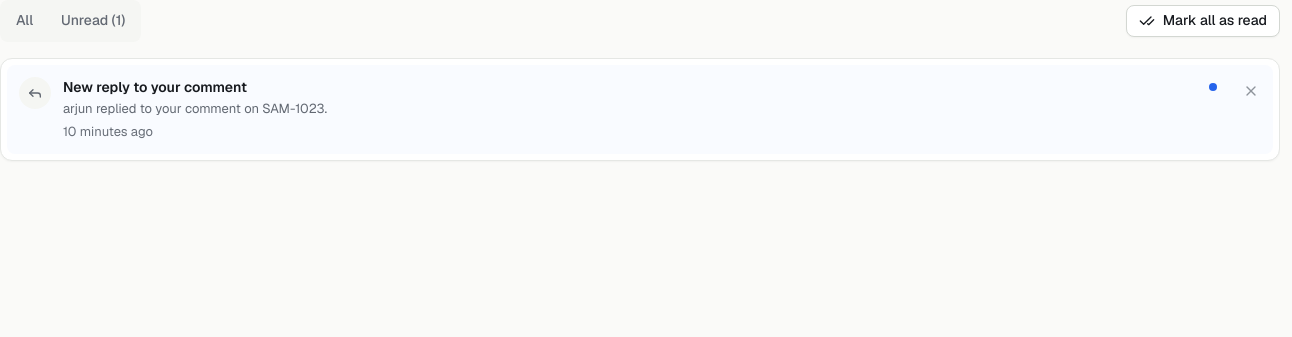
Test case: NotificationCenter › dismisses a notification, restoring it if that fails
The width and height of the screenshot is (1292, 337).
Step 1. Click the button named "Dismiss notification: New reply to your comment" → click(1251, 91), box [1233,73,1269,109]
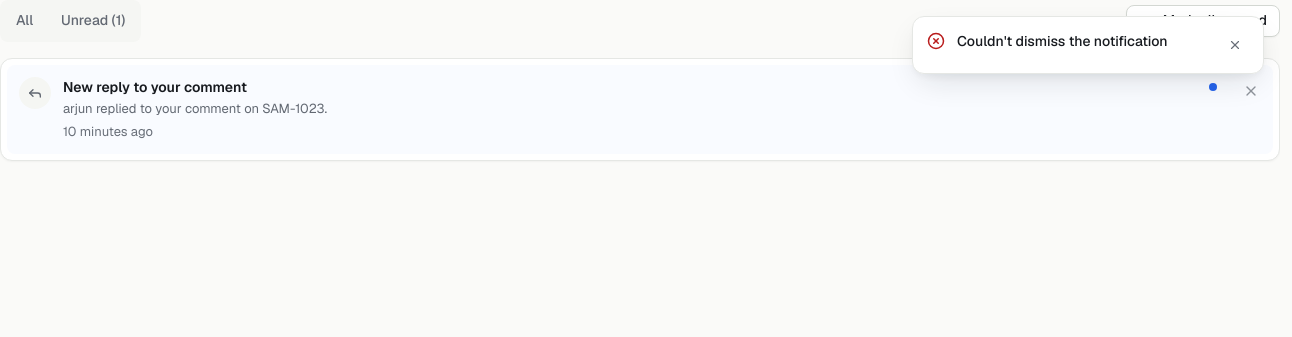
Expected: the link "New reply to your comment" is shown, [7,65,1229,154]
Now the text "Couldn't dismiss the notification" is shown, box [957,32,1168,50]
Step 2. Click the button named "Dismiss notification: New reply to your comment" → click(1251, 91), box [1233,73,1269,109]
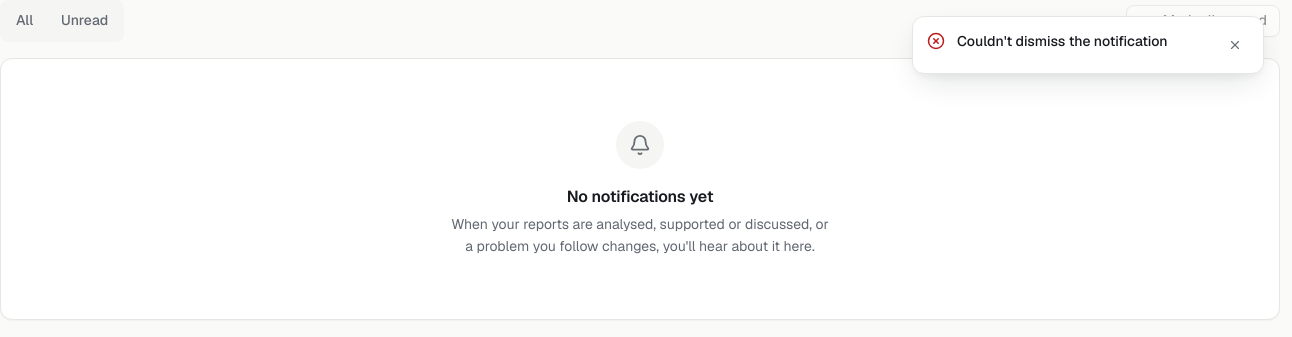
Now the link "New reply" is gone
